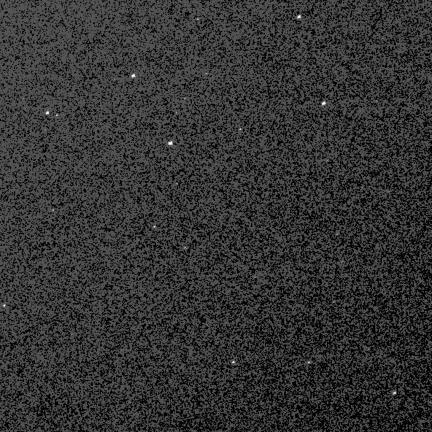blob: (168, 141, 174, 146), (46, 111, 50, 116), (132, 74, 136, 78), (322, 102, 326, 105), (232, 361, 236, 364), (3, 304, 6, 308), (297, 15, 301, 18), (153, 226, 156, 229), (393, 392, 396, 394)
